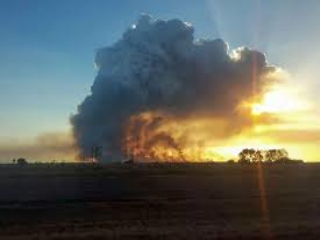smoke: (69, 17, 234, 155)
